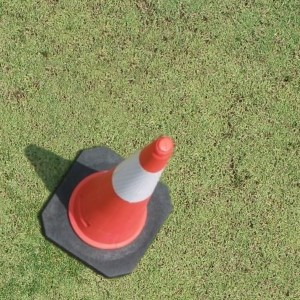traffic cone: (37, 132, 175, 278)
